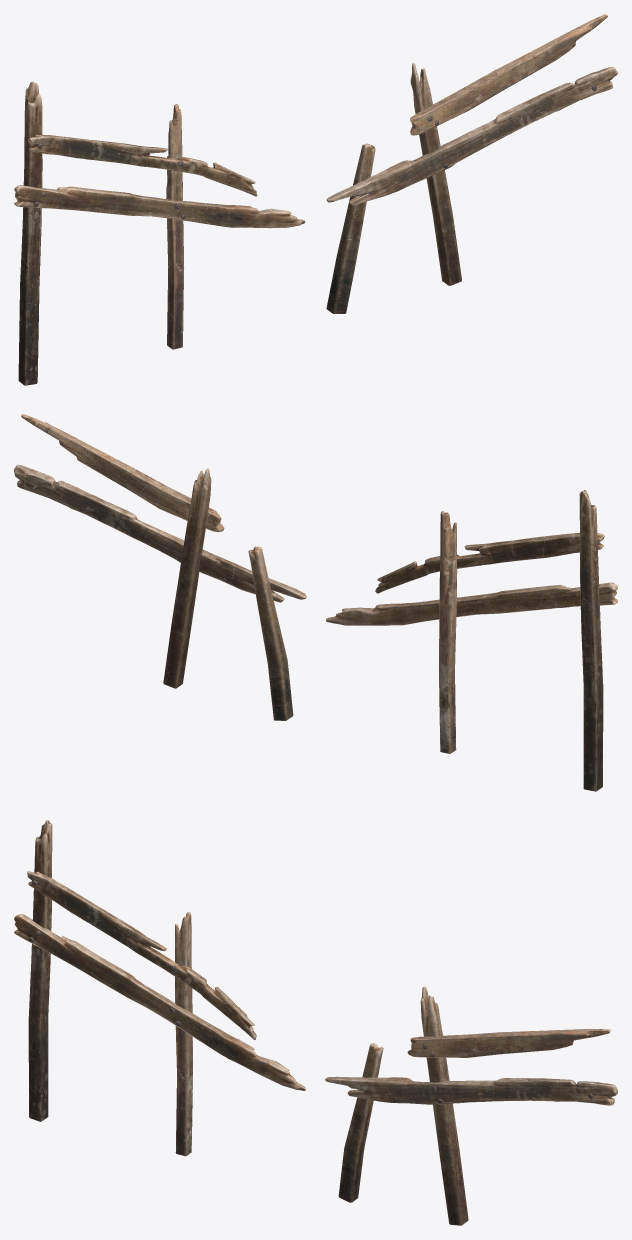
3 renders of one model, top to bottom at view 1: azimuth 30°, elevation 25°; view 2: azimuth 150°, elevation 25°; view 3: azimuth 330°, elevation 25°, orthographic.
Visible parts, largest first — view 1: SM_Wooden_Fence_01v5_LOD0; view 2: SM_Wooden_Fence_01v5_LOD0; view 3: SM_Wooden_Fence_01v5_LOD0.
Boxes of the visible parts, x1,y1,x2,y2 form: SM_Wooden_Fence_01v5_LOD0: (14, 14, 617, 385); SM_Wooden_Fence_01v5_LOD0: (14, 414, 617, 791); SM_Wooden_Fence_01v5_LOD0: (14, 820, 617, 1225).
Size of the model in its own units: 4.03 by 1.94 by 0.1586.
1 material, 1 textured.
